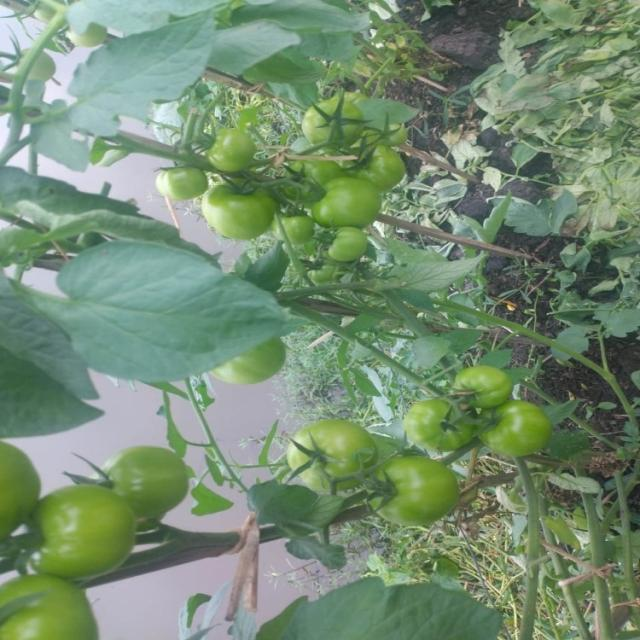tomato: (28, 474, 139, 588), (374, 451, 484, 531), (1, 566, 118, 640), (95, 437, 196, 522), (277, 410, 383, 489), (199, 183, 291, 240), (214, 329, 293, 395), (474, 401, 548, 467), (303, 87, 381, 148), (411, 394, 495, 449), (310, 214, 385, 274), (1, 434, 45, 531), (310, 176, 386, 229), (457, 359, 519, 417), (278, 148, 354, 195), (360, 144, 426, 191), (157, 155, 224, 196), (11, 39, 65, 81), (62, 10, 113, 52), (208, 135, 263, 173), (281, 203, 329, 243), (378, 112, 420, 149), (20, 1, 63, 17)
